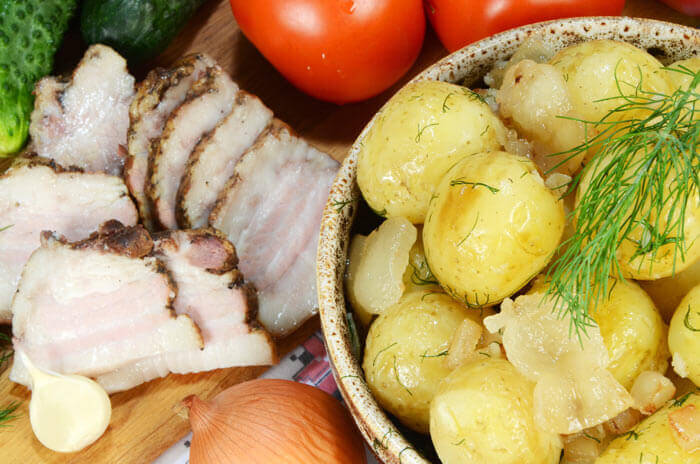boiled potatoes: (423, 155, 564, 304), (358, 80, 500, 226), (351, 292, 496, 429), (578, 143, 700, 273), (536, 285, 666, 405), (429, 364, 564, 464), (545, 40, 667, 144), (607, 392, 699, 464)
